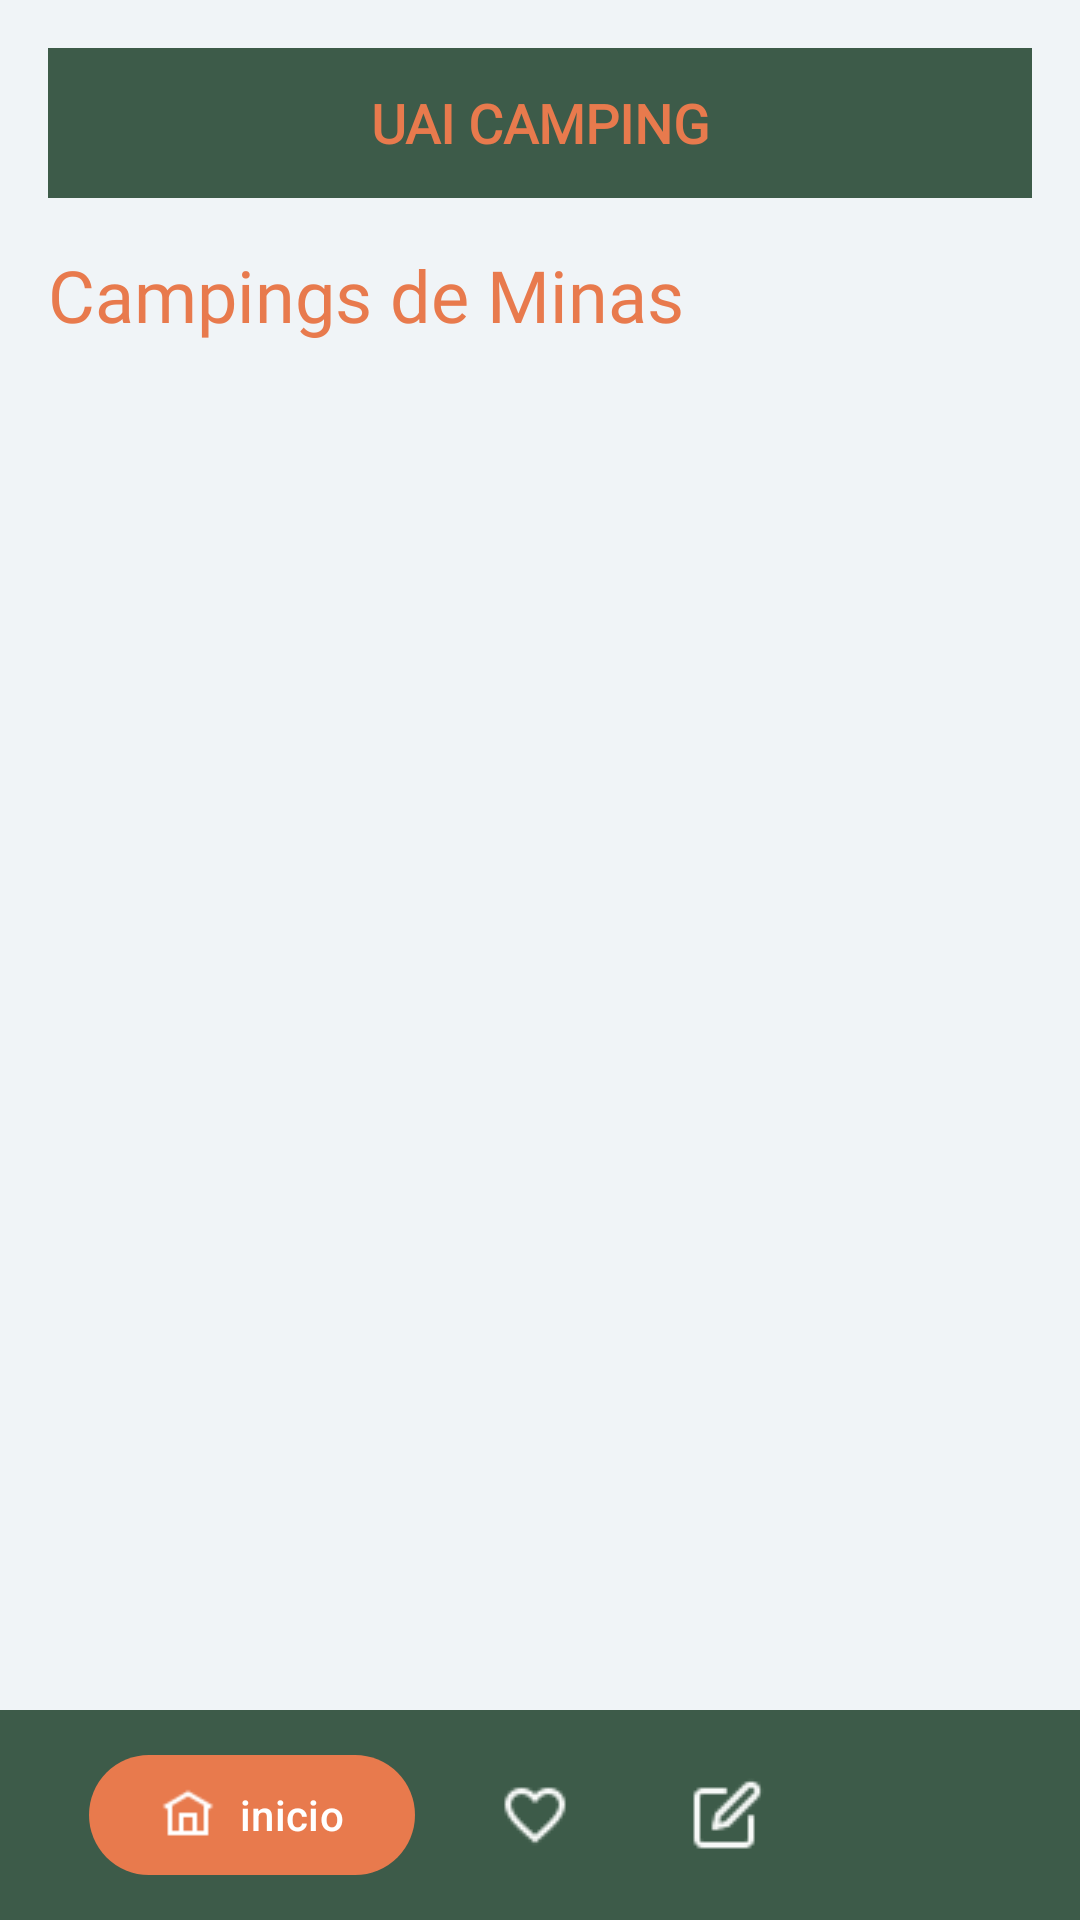

Icon bounding boxes for this 1080 × 1920 phone screenshot, format region(x1, y1, x2, y2):
Adicionar Anúncio: region(693, 1781, 761, 1849)
Favoritos: region(504, 1787, 566, 1843)
